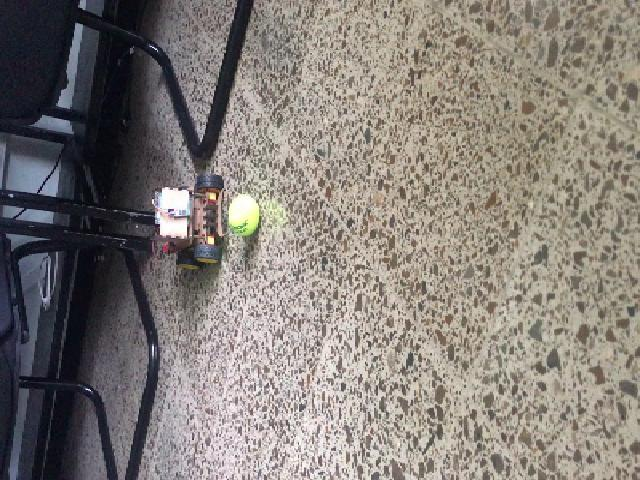Ball: (226, 196, 259, 236)
Robot: (154, 174, 222, 270)
